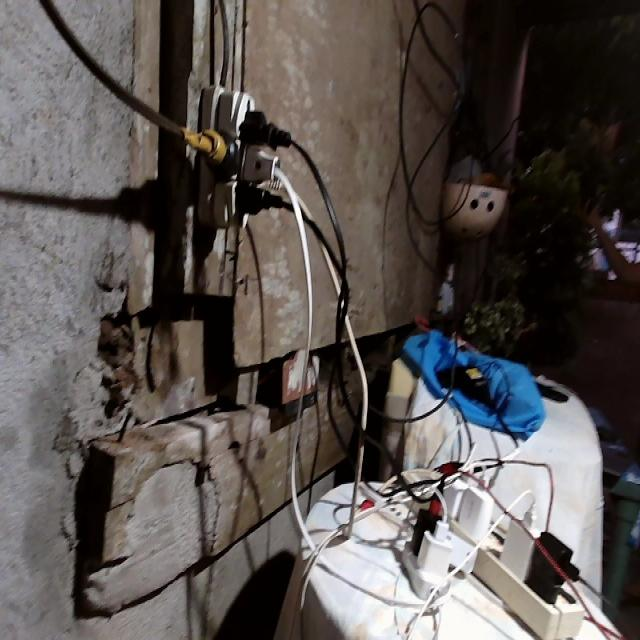-: (188, 80, 279, 227)
